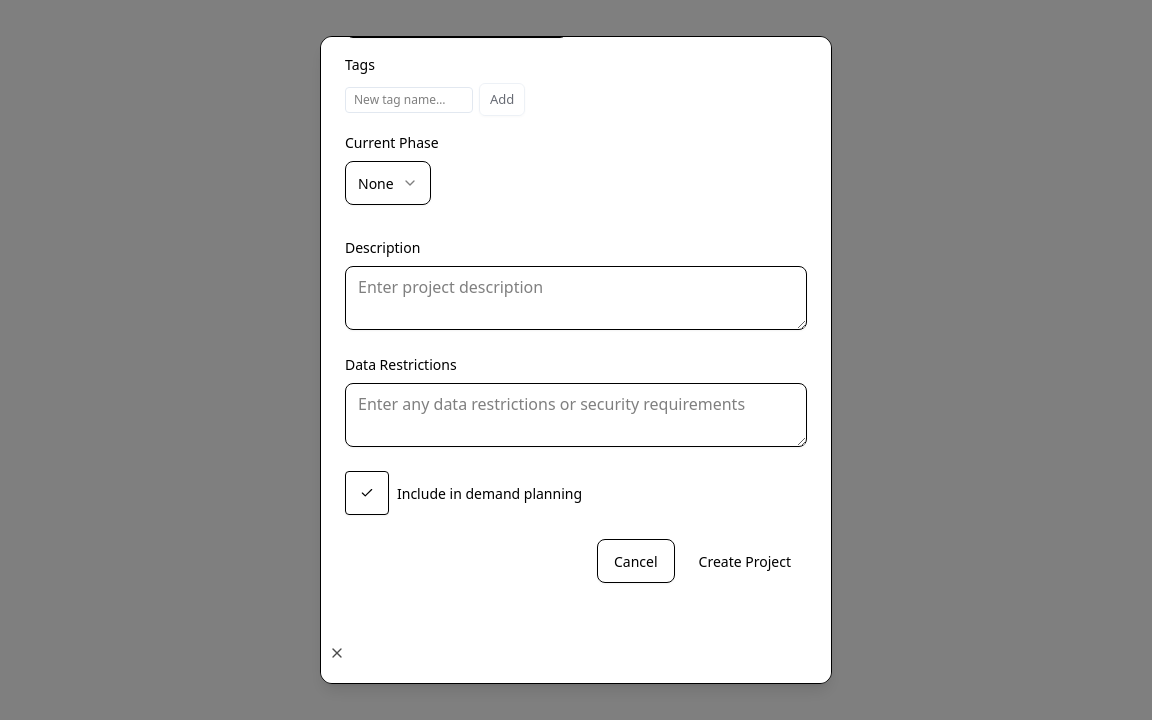
ProjectModal › Form Validation › shows error when submitting without project name
(page scrolled)
Click the button "Create Project".
click(745, 561)  # box left=683, top=539, right=807, bottom=583
(page scrolled)
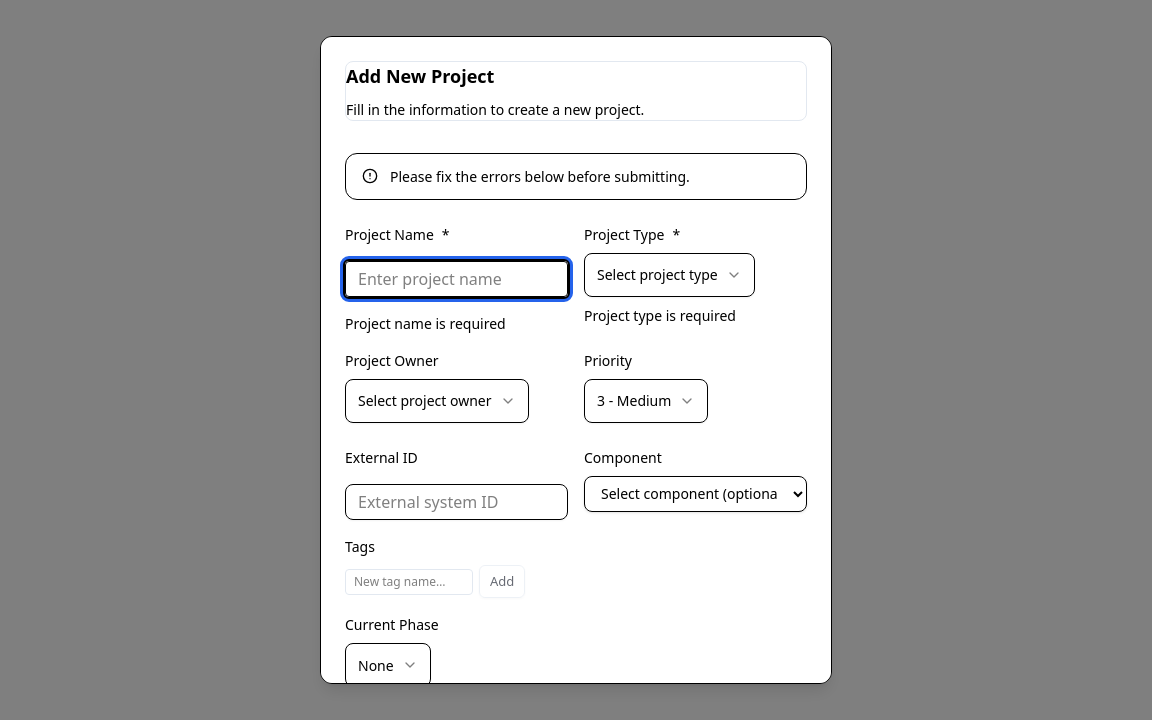
Expected: the text "Project name is required" is shown, left=345, top=314, right=506, bottom=333
